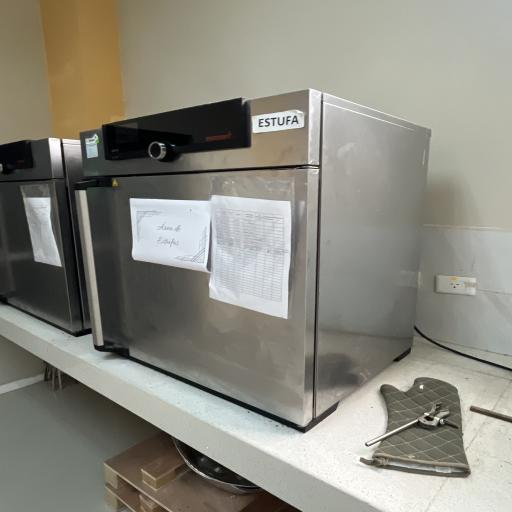Estufa_Memmert: (69, 76, 454, 441)
